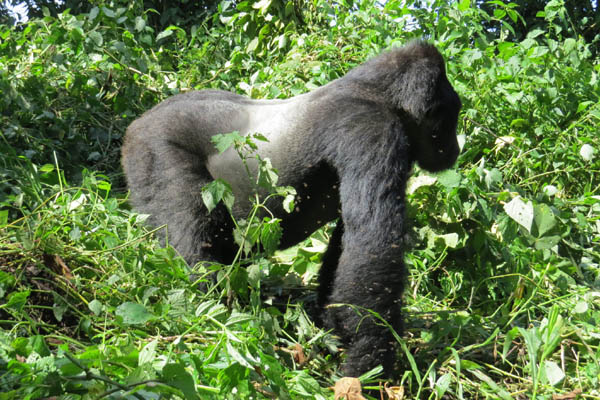Goriila: (111, 47, 497, 400)
